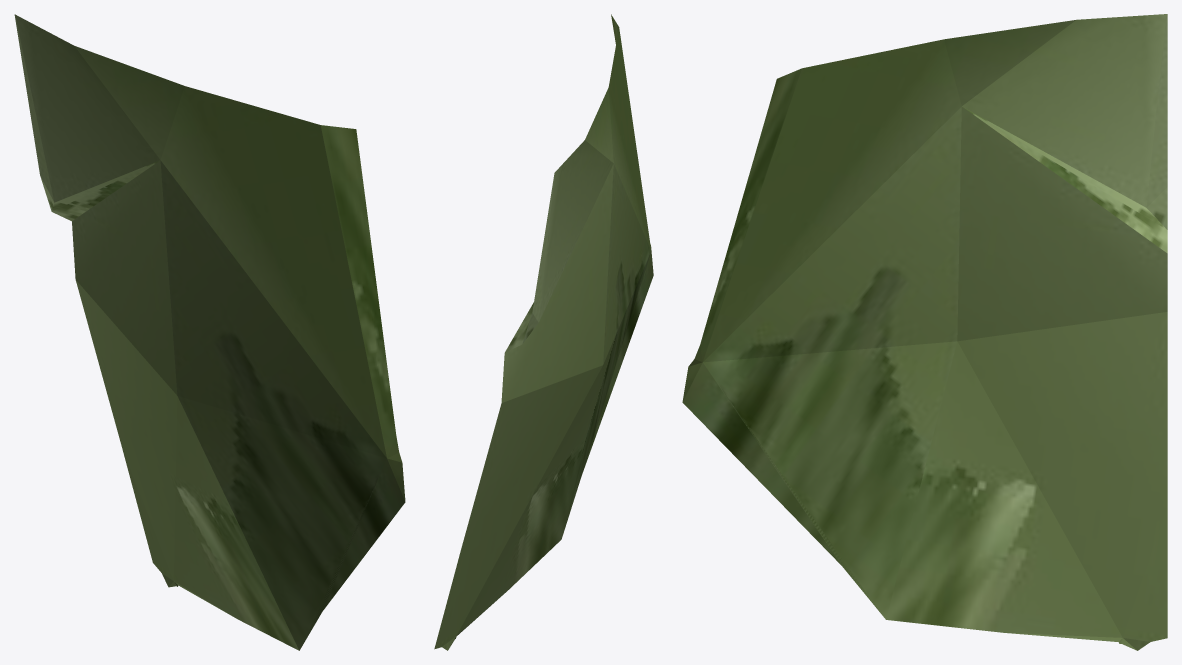
3 views of the same model, side by side, from view 1: azimuth 30°, elevation 25°; view 2: azimuth 150°, elevation 25°; view 3: azimuth 270°, elevation 25° (orthographic). The views are drawn at different scales.
Bounding box in the file's own units: 0.485 × 1.99 × 1.53.
1 material, 1 textured.
